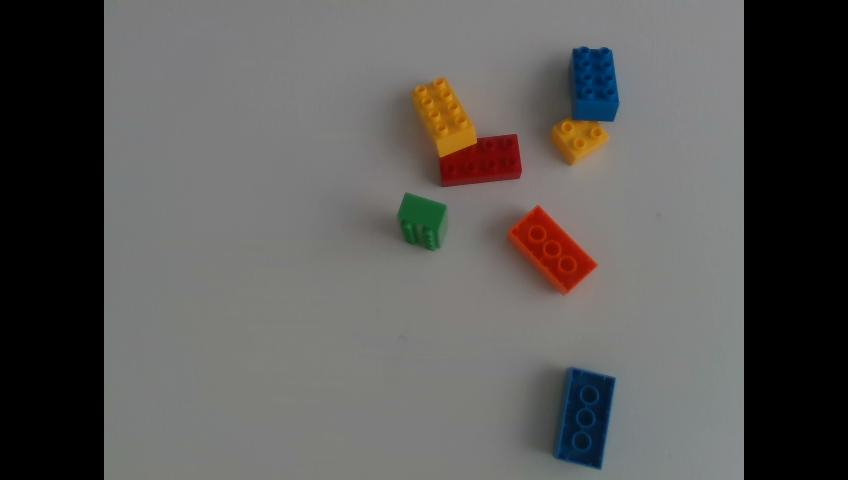2x2_yellow: (551, 119, 610, 164)
4x2_blue: (554, 365, 616, 468), (571, 45, 620, 120)
4x2_green: (399, 192, 447, 249)
4x2_orange: (508, 204, 597, 294)
4x2_red: (439, 134, 520, 187)
4x2_yellow: (411, 77, 475, 155)
